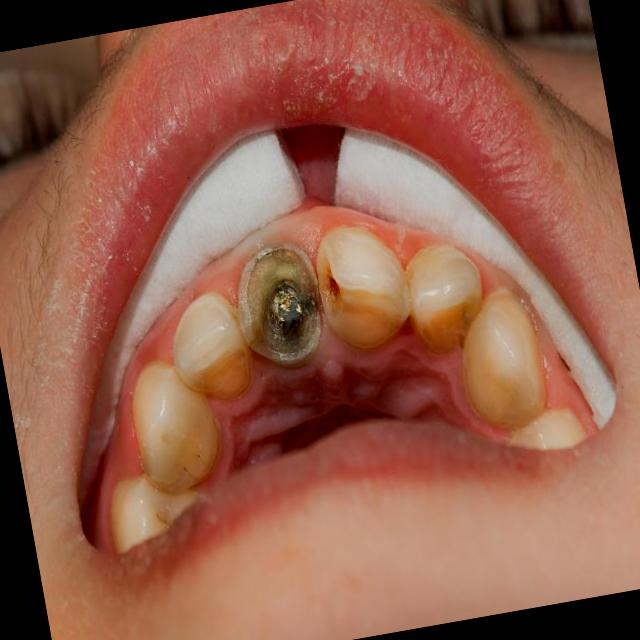caries: (306, 216, 416, 357), (228, 238, 334, 375)
